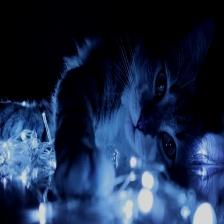kedo: (1, 21, 218, 203)
